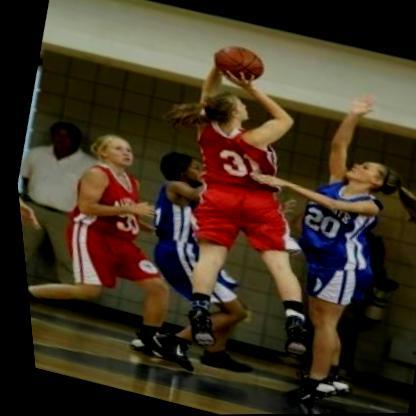basketball: (202, 34, 270, 89)
